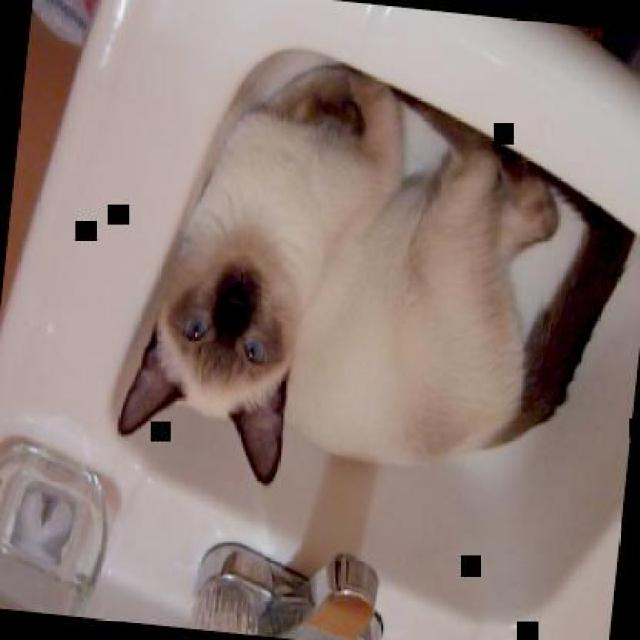cat: (111, 52, 638, 525)
